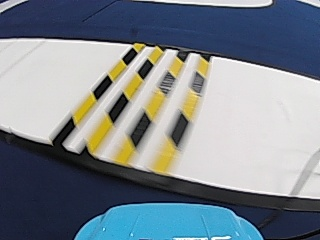bump: (58, 46, 211, 153)
